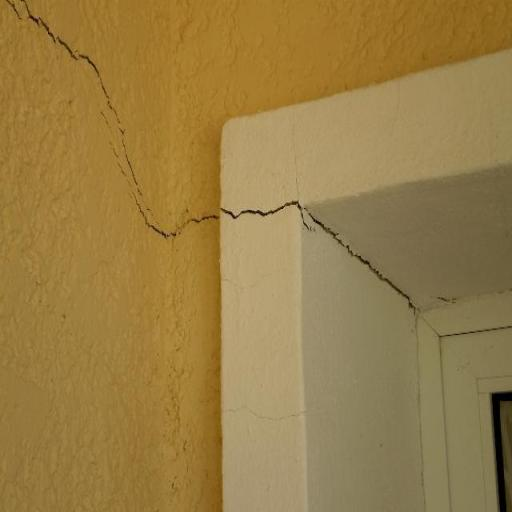spalling: (7, 2, 424, 324)
